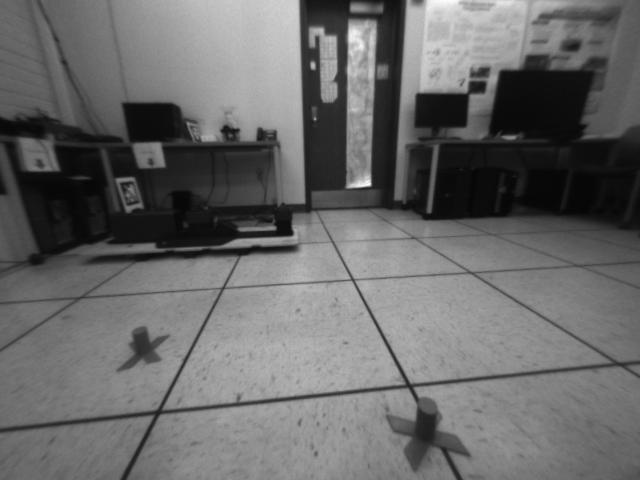X: (384, 396, 472, 474), (114, 327, 172, 373)
